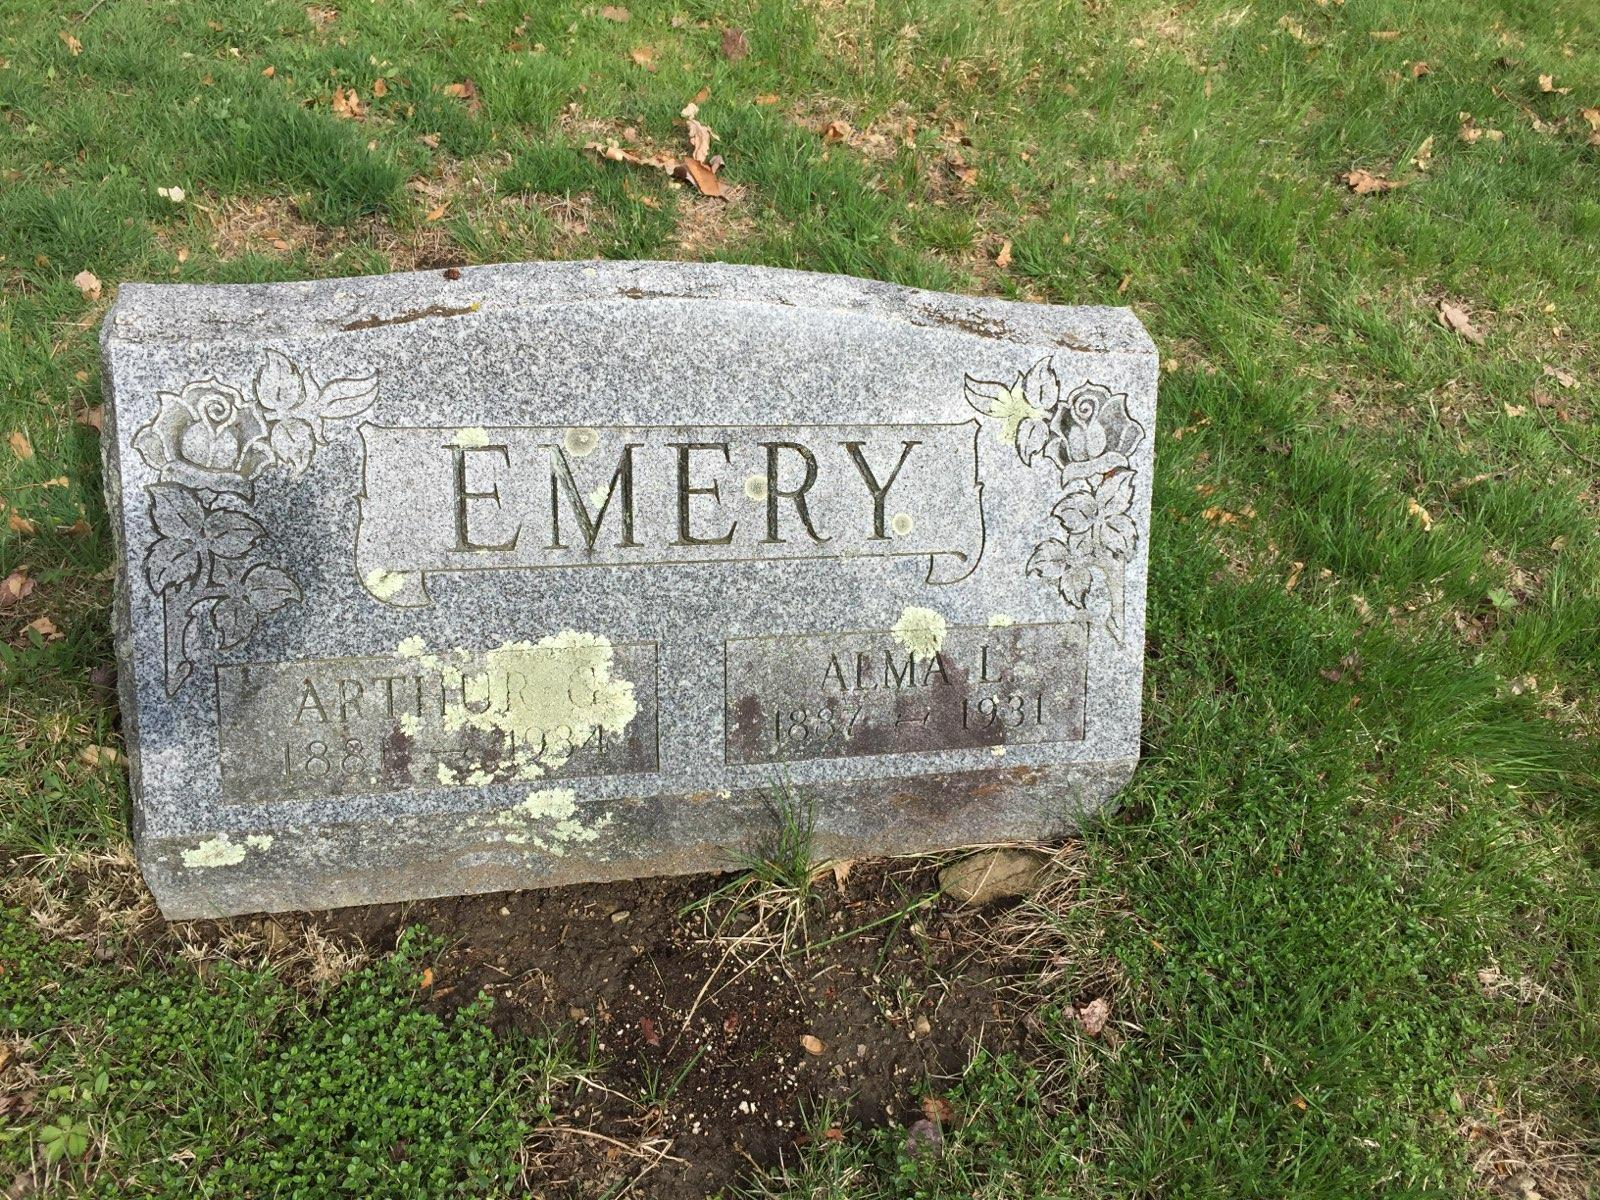slant: (101, 276, 1146, 925)
